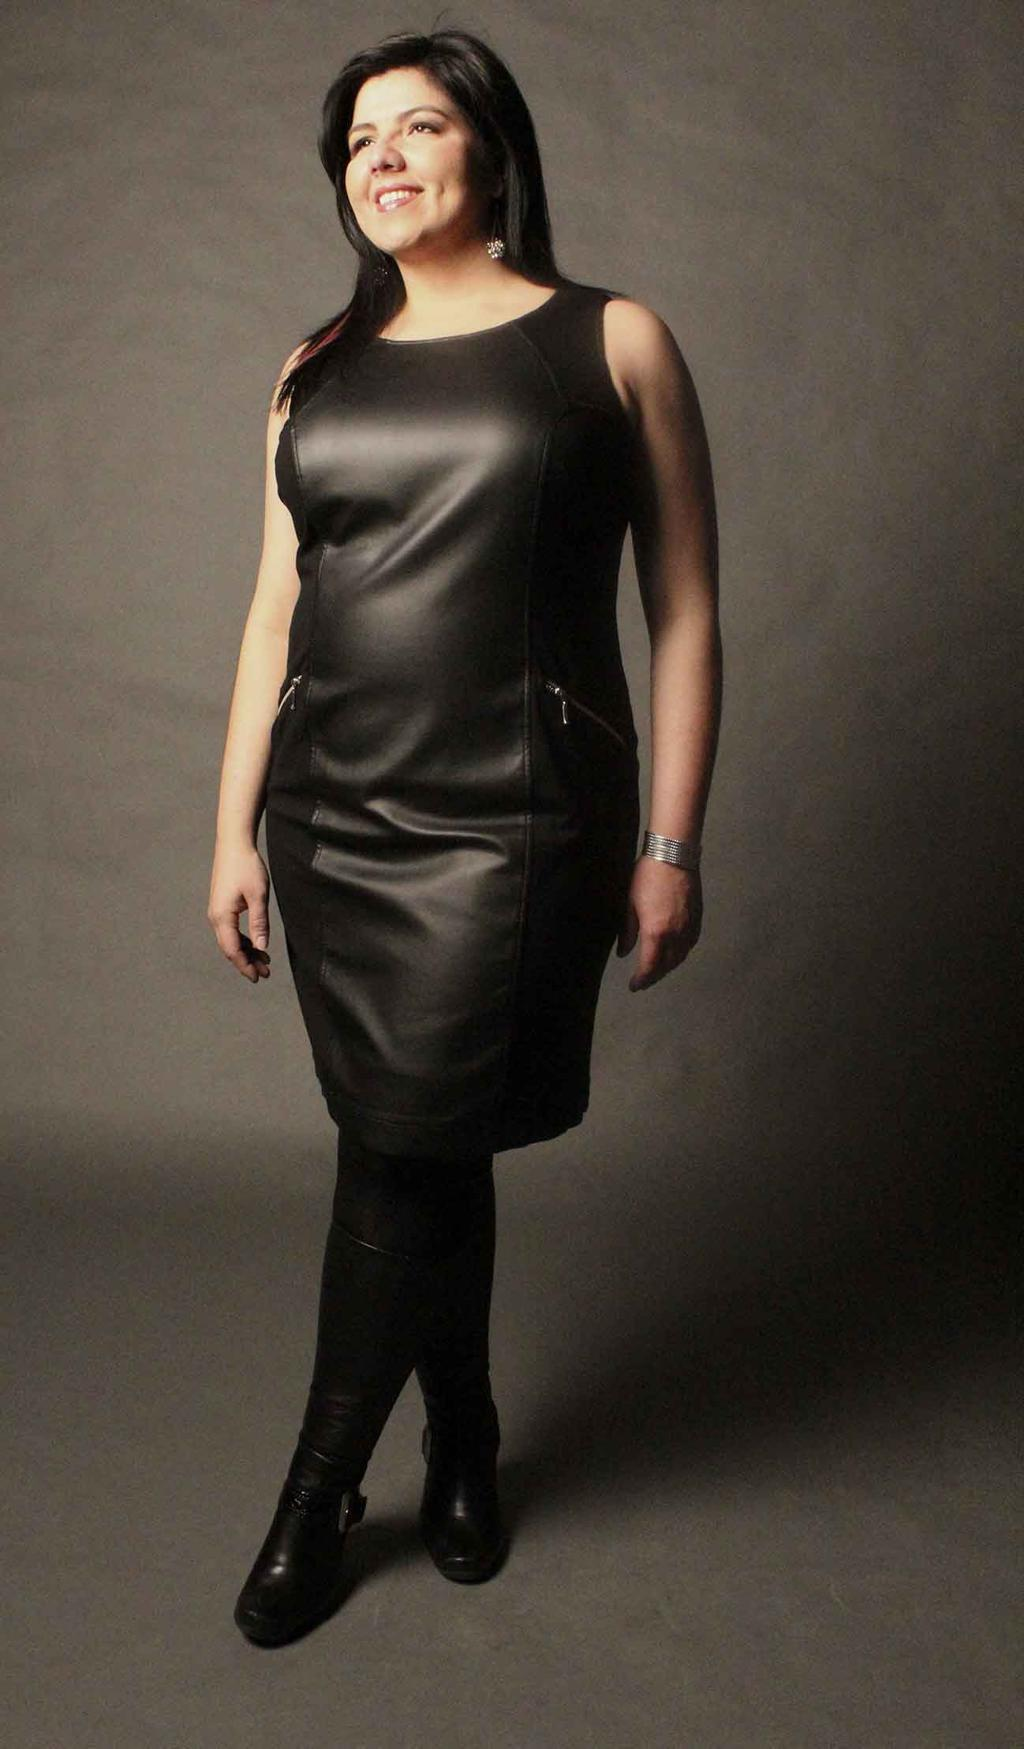face: (346, 73, 472, 250)
